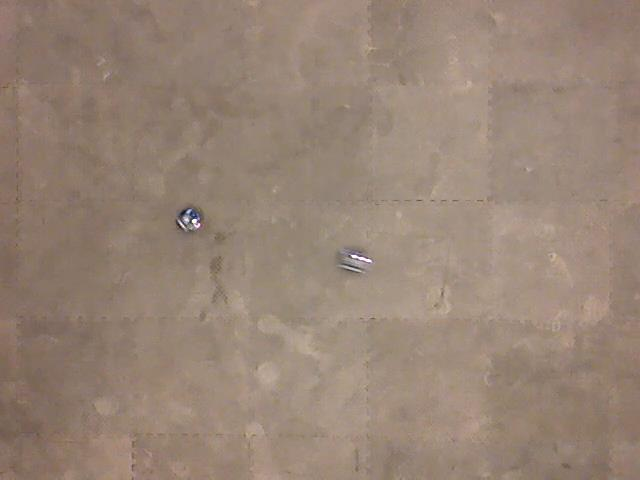Agent: (337, 244, 375, 277), (174, 204, 207, 235)
